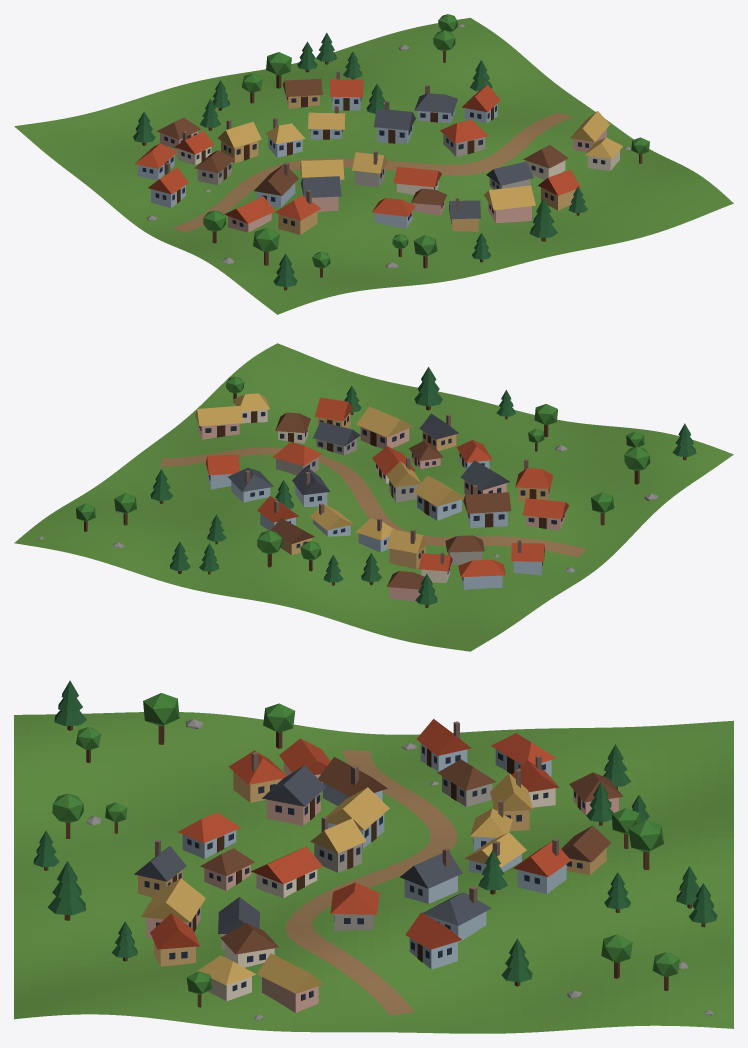
Rendered from village_seed1.glb.
The picture shows the model from 3 angles, top to bottom: view 1: azimuth 30°, elevation 25°; view 2: azimuth 150°, elevation 25°; view 3: azimuth 270°, elevation 25°; orthographic projection. The views are drawn at different scales.
Visible parts, largest first — view 1: Ground_and_Path, house_27_roof, house_01_roof, house_17_roof, house_00_roof, house_05_roof, house_11_roof, house_20_roof, house_19_roof, house_12_roof, house_06_roof, house_04_roof (+27 smaller); view 2: Ground_and_Path, house_27_roof, house_11_roof, house_17_roof, house_02_roof, house_01_roof, house_19_roof, house_20_roof, house_25_roof, house_04_roof, tree_19, house_12_roof (+26 smaller); view 3: Ground_and_Path, house_27_roof, house_17_roof, house_01_roof, house_00_roof, house_02_roof, house_04_roof, house_11_roof, tree_19, house_05_roof, house_06_roof, house_13_roof (+54 smaller).
Part boxes in pixels (left/top/right/bottom): Ground_and_Path: left=14, top=17, right=733, bottom=314; house_27_roof: left=484, top=185, right=535, bottom=210; house_01_roof: left=300, top=176, right=341, bottom=197; house_17_roof: left=300, top=159, right=344, bottom=179; house_00_roof: left=393, top=166, right=441, bottom=187; house_05_roof: left=373, top=108, right=415, bottom=130; house_11_roof: left=254, top=164, right=298, bottom=195; house_20_roof: left=486, top=161, right=533, bottom=185; house_19_roof: left=224, top=196, right=275, bottom=223; house_12_roof: left=217, top=121, right=261, bottom=147; house_06_roof: left=414, top=93, right=457, bottom=113; house_04_roof: left=440, top=120, right=488, bottom=143; Ground_and_Path: left=14, top=343, right=733, bottom=651; house_27_roof: left=356, top=406, right=413, bottom=437; house_11_roof: left=463, top=492, right=511, bottom=513; house_17_roof: left=413, top=475, right=464, bottom=506; house_02_roof: left=195, top=405, right=243, bottom=426; house_01_roof: left=460, top=460, right=510, bottom=490; house_19_roof: left=522, top=498, right=568, bottom=518; house_20_roof: left=313, top=421, right=360, bottom=446; house_25_roof: left=458, top=559, right=505, bottom=577; house_04_roof: left=272, top=442, right=322, bottom=465; tree_19: left=414, top=367, right=442, bottom=410; house_12_roof: left=386, top=529, right=428, bottom=553; Ground_and_Path: left=14, top=712, right=733, bottom=1033; house_27_roof: left=141, top=878, right=205, bottom=922; house_17_roof: left=321, top=787, right=389, bottom=830; house_01_roof: left=262, top=765, right=325, bottom=806; house_00_roof: left=251, top=846, right=322, bottom=884; house_02_roof: left=257, top=953, right=323, bottom=993; house_04_roof: left=330, top=882, right=379, bottom=914; house_11_roof: left=318, top=757, right=387, bottom=796; tree_19: left=47, top=861, right=85, bottom=920; house_05_roof: left=400, top=853, right=462, bottom=888; house_06_roof: left=423, top=892, right=491, bottom=925; house_13_roof: left=150, top=913, right=199, bottom=949.
Bounding box in the file's own units: 70 × 9.09 × 70.
